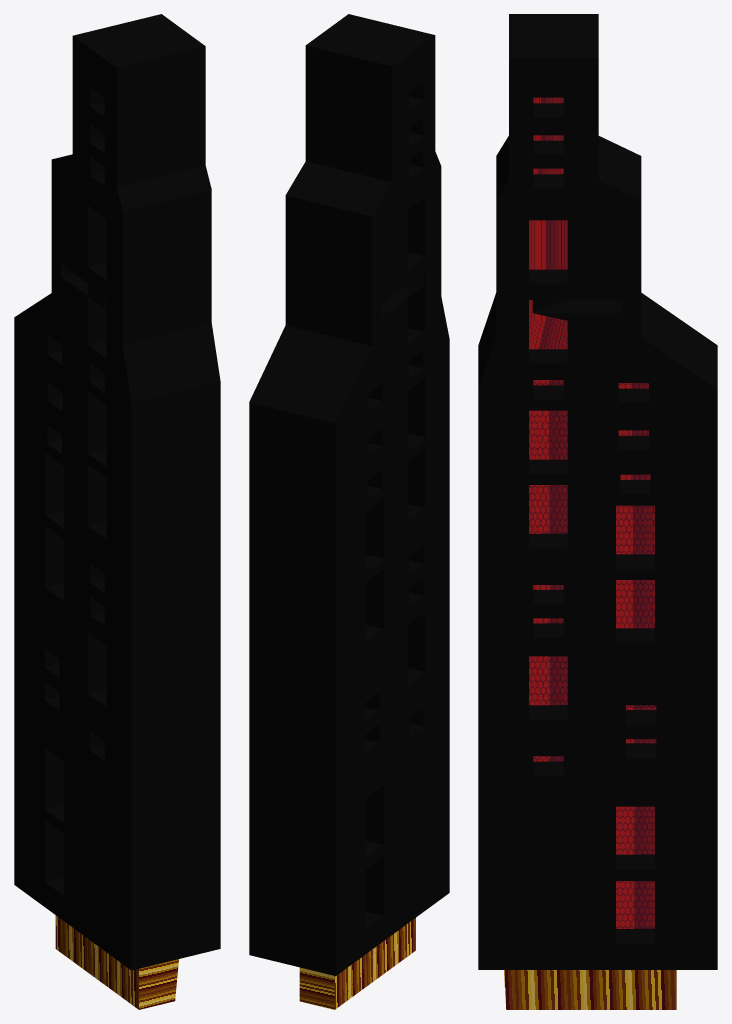
The model's file is batch_Key.fbx.
3 views of the same model, side by side, from view 1: azimuth 30°, elevation 25°; view 2: azimuth 150°, elevation 25°; view 3: azimuth 270°, elevation 25° (orthographic). The views are drawn at different scales.
Visible parts, largest first — view 1: Cube; view 2: Cube; view 3: Cube.
Boxes of the visible parts, x1,y1,x2,y2 form: Cube: (14,14,220,1009); Cube: (249,14,449,1009); Cube: (478,14,717,1009).
Size of the model in its own units: 178 by 1804 by 405.
